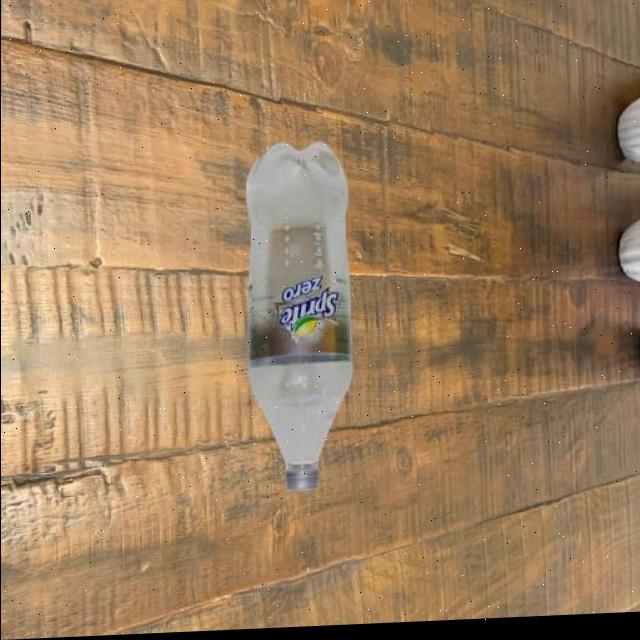bottle: (244, 140, 355, 497)
